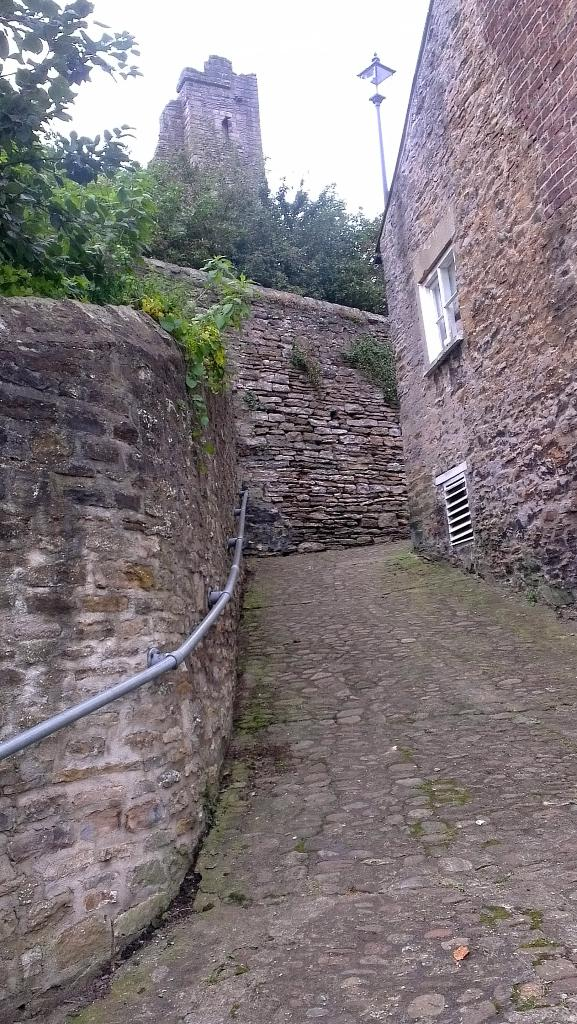Tree: (0, 0, 190, 304), (137, 168, 394, 322)
